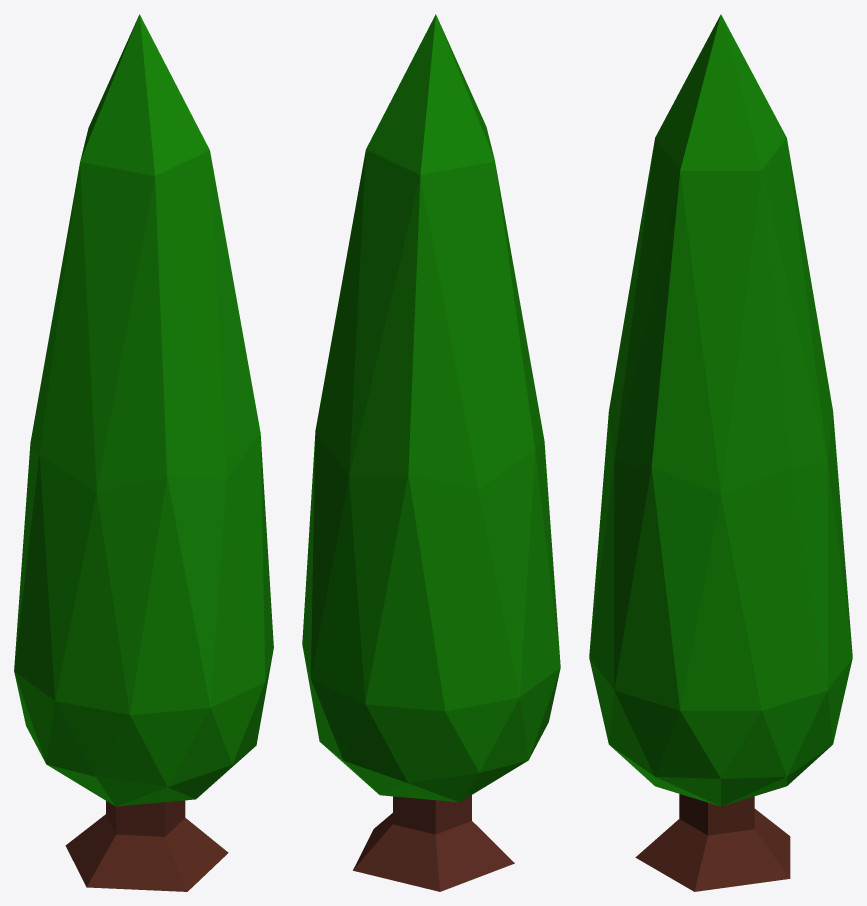
File: tree4.fbx
3 views of the same model, side by side, from view 1: azimuth 30°, elevation 25°; view 2: azimuth 150°, elevation 25°; view 3: azimuth 270°, elevation 25° (orthographic).
Visible parts, largest first — view 1: Tree7; view 2: Tree7; view 3: Tree7.
Boxes of the visible parts, x1,y1,x2,y2 form: Tree7: (14,14,273,891); Tree7: (302,14,560,891); Tree7: (589,14,852,891).
Size of the model in its own units: 5.21 by 19.29 by 5.48.
